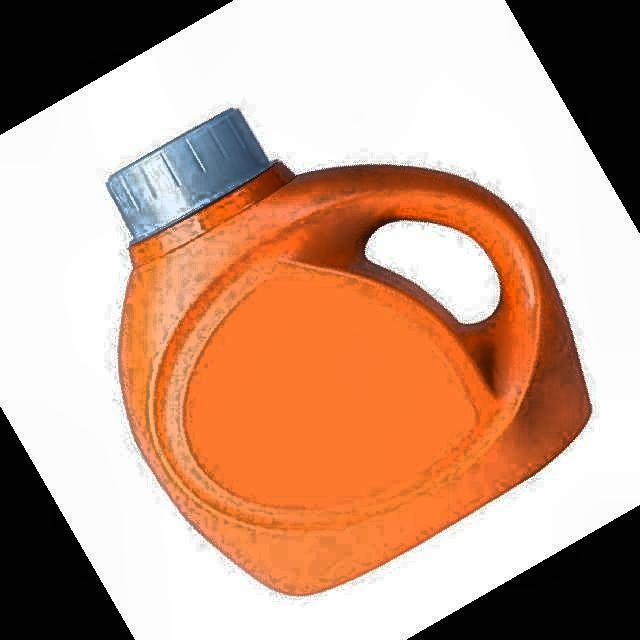plastic: (108, 109, 590, 594)
